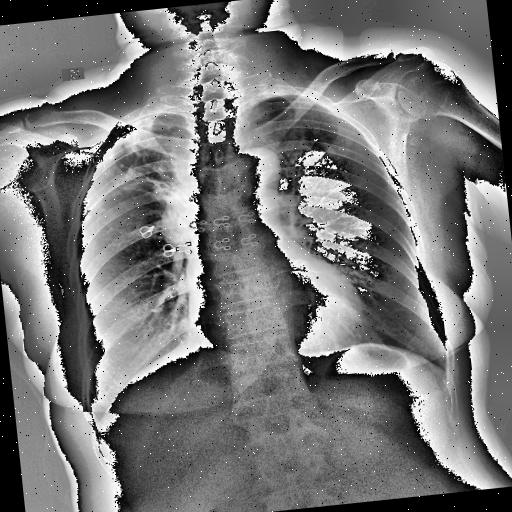0- Aortic enlargement: (228, 145, 282, 207), (230, 143, 284, 200)
11- Pleural thickening: (104, 117, 142, 152)
13- Pulmonary fibrosis: (102, 108, 202, 216), (107, 141, 190, 229), (102, 128, 188, 212)
6- Infiltration: (102, 108, 202, 216)
9- Other lesion: (156, 181, 206, 245), (82, 214, 93, 222)
